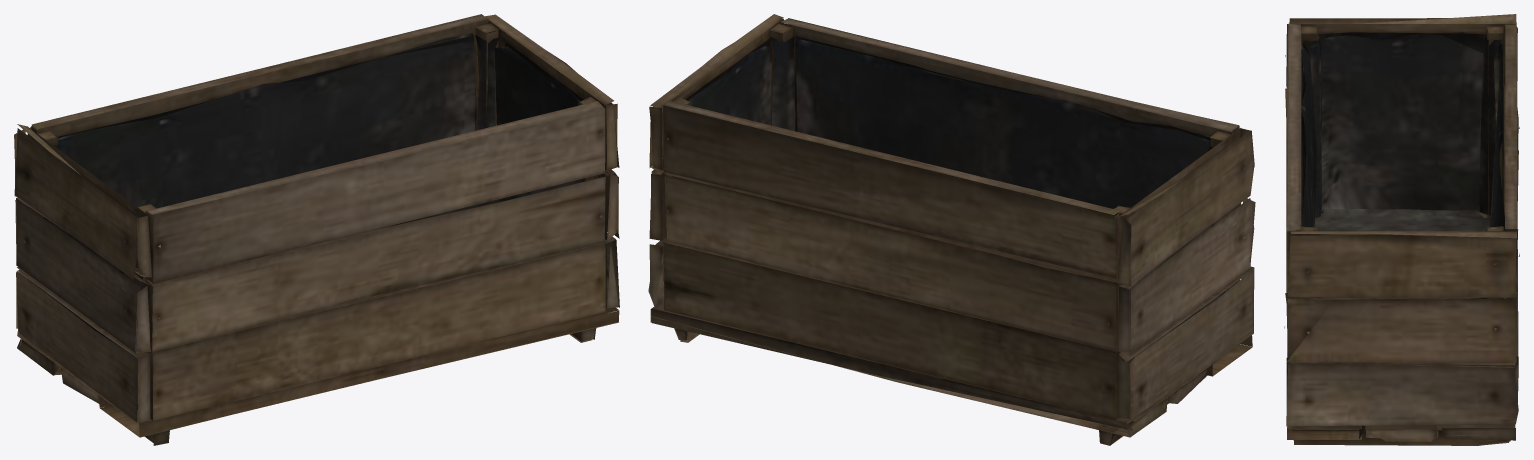
File: planter_box_01.glb
3 renders of one model, left to right at view 1: azimuth 30°, elevation 25°; view 2: azimuth 150°, elevation 25°; view 3: azimuth 270°, elevation 25°, orthographic. The views are drawn at different scales.
Parts seen in each view (by area): view 1: planter_box_01; view 2: planter_box_01; view 3: planter_box_01.
Part boxes in pixels (x1,y1,x2,y2): planter_box_01: (14, 14, 619, 445); planter_box_01: (648, 14, 1255, 445); planter_box_01: (1284, 14, 1519, 445).
Bounding box in the file's own units: 0.9113 × 0.4315 × 0.4123.
1 material, 1 textured.
